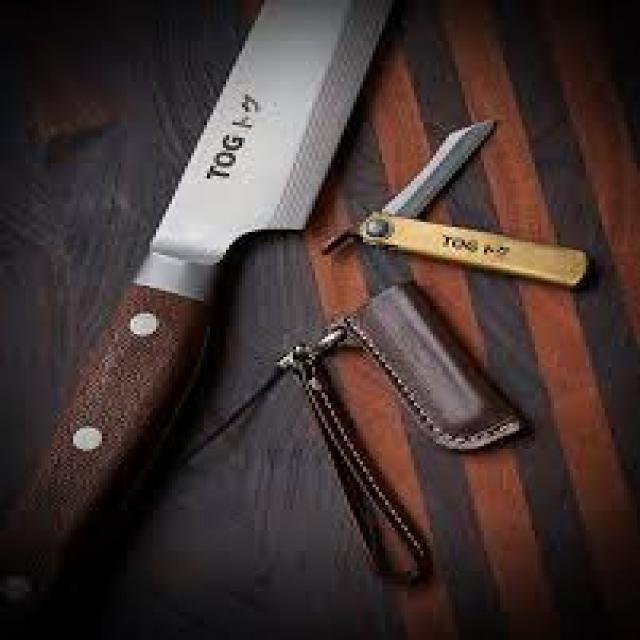knives: (67, 4, 402, 333)
